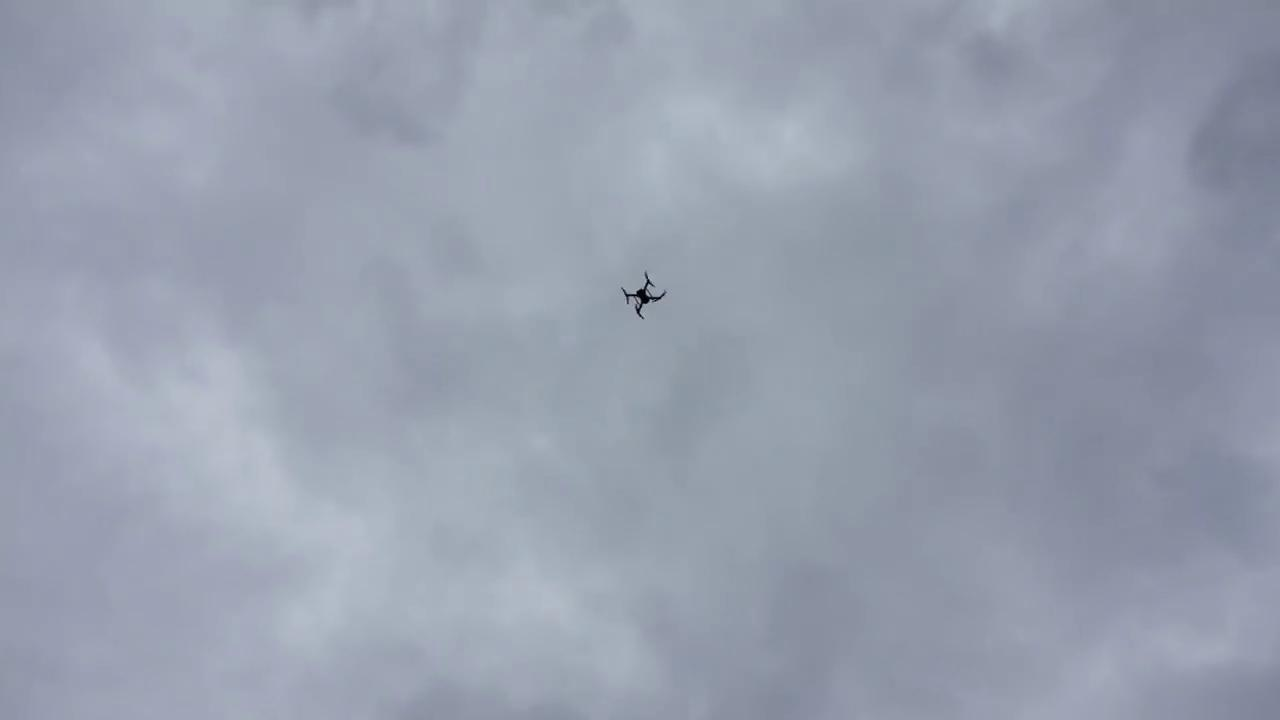drone: (620, 264, 676, 322)
